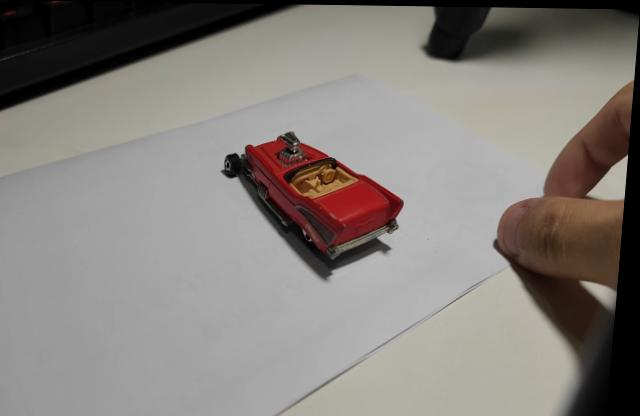03_V8: (224, 132, 409, 268)
